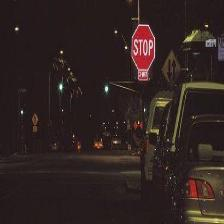Stop-sign: (130, 23, 156, 68)
